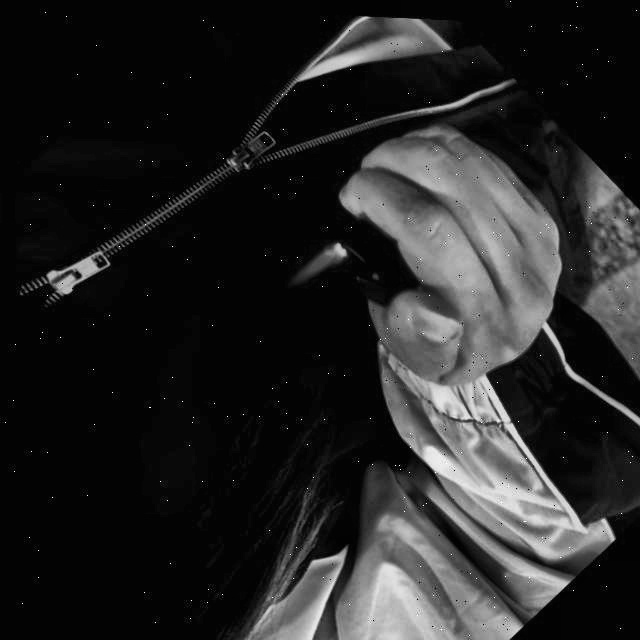Fire: (265, 226, 351, 308)
